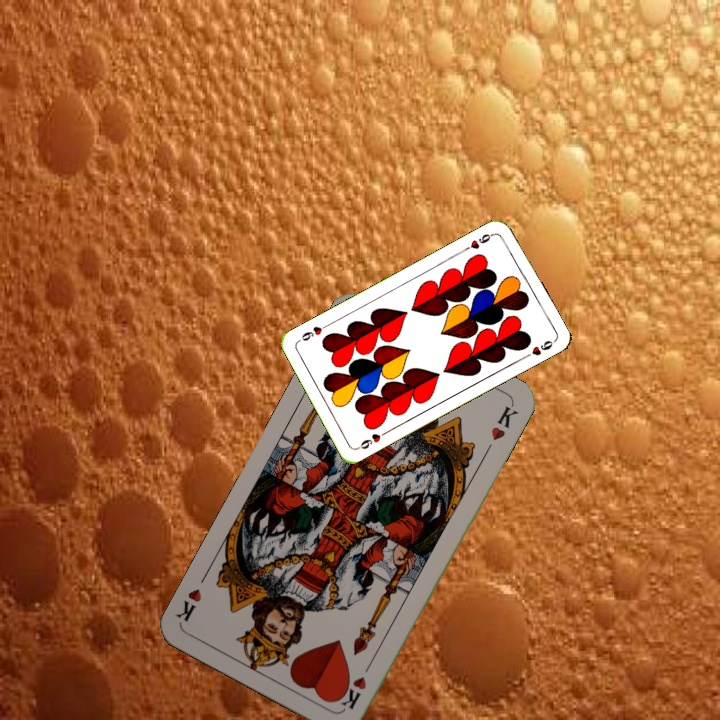H9: (353, 427, 390, 452), (460, 229, 497, 254)
HK: (336, 657, 375, 712)
